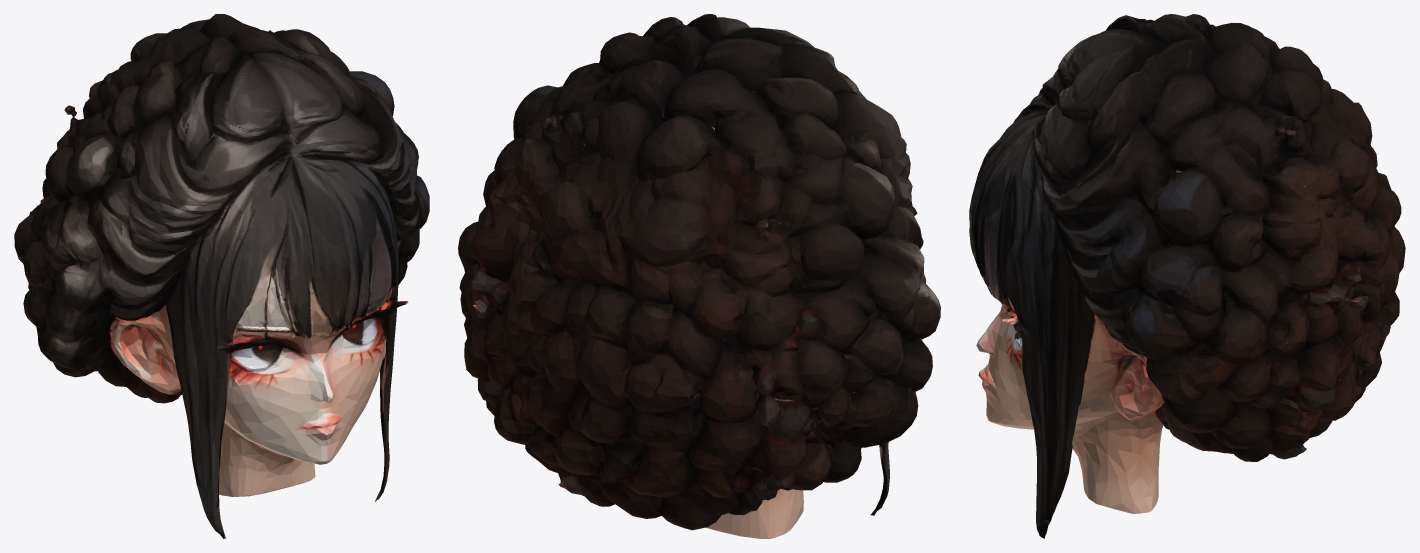
File: side_yachiko_repaired_atlas.glb
3 views of the same model, side by side, from view 1: azimuth 30°, elevation 25°; view 2: azimuth 150°, elevation 25°; view 3: azimuth 270°, elevation 25° (orthographic). The views are drawn at different scales.
Visible parts, largest first — view 1: temp_mesh.ply; view 2: temp_mesh.ply; view 3: temp_mesh.ply.
Part boxes in pixels (x1,y1,x2,y2): temp_mesh.ply: (14,14,429,538); temp_mesh.ply: (458,14,940,538); temp_mesh.ply: (969,14,1405,538).
Size of the model in its own units: 1.76 by 1.97 by 1.66.
Materials: 1 (1 with a texture image).
